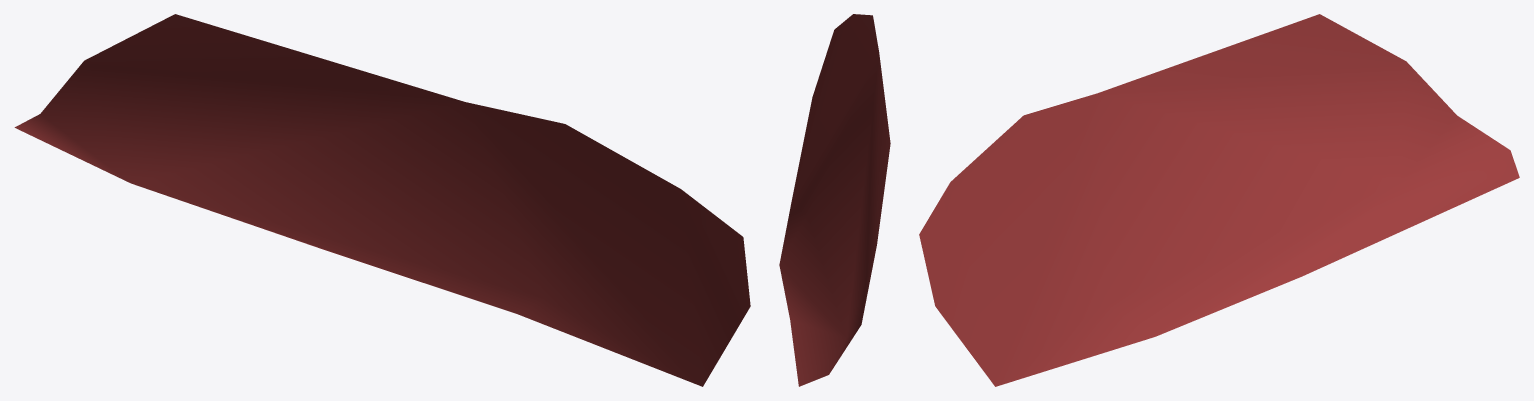
Rendered from omohyoid-muscle-er.glb.
3 views of the same model, side by side, from view 1: azimuth 30°, elevation 25°; view 2: azimuth 150°, elevation 25°; view 3: azimuth 270°, elevation 25° (orthographic). The views are drawn at different scales.
Visible parts, largest first — view 1: Omohyoid muscle.er; view 2: Omohyoid muscle.er; view 3: Omohyoid muscle.er.
Boxes of the visible parts, left/top/right/bottom form: Omohyoid muscle.er: left=14, top=14, right=750, bottom=386; Omohyoid muscle.er: left=779, top=14, right=890, bottom=386; Omohyoid muscle.er: left=919, top=14, right=1519, bottom=386.
Size of the model in its own units: 0.00504 by 0.0038 by 0.00845.
